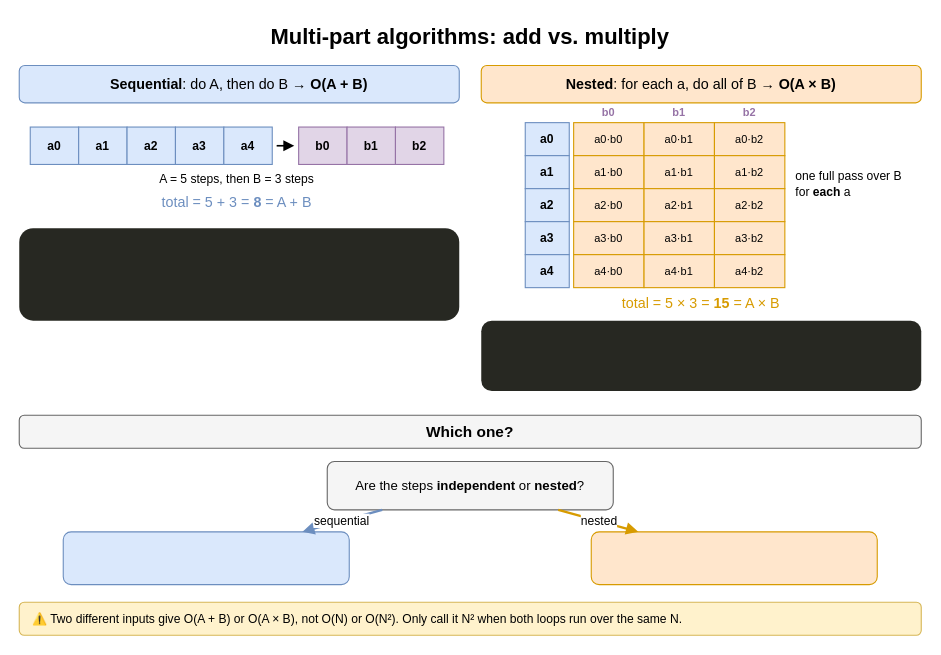
This 941x655 diagram has some shape labels left out. Each missing label, with the box of its shape:
for x in a: # A steps print(x) for y in b: # then B steps print(y): (19, 228, 459, 320)
for x in a: # A times... for y in b: # ...B steps each print(x, y): (481, 320, 921, 391)
“do this, then do that” → add: (62, 531, 349, 585)
“for each time you do this, do that” → multiply: (590, 531, 877, 585)
